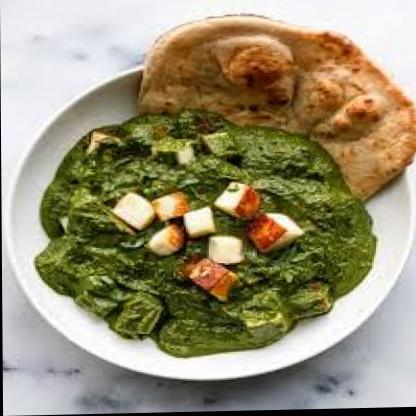palak_paneer: (32, 108, 377, 362)
